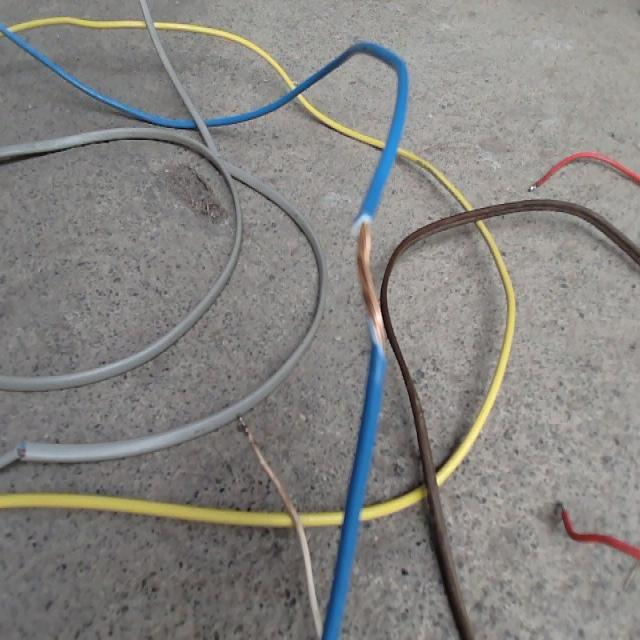-: (350, 212, 387, 359), (14, 436, 27, 461)
